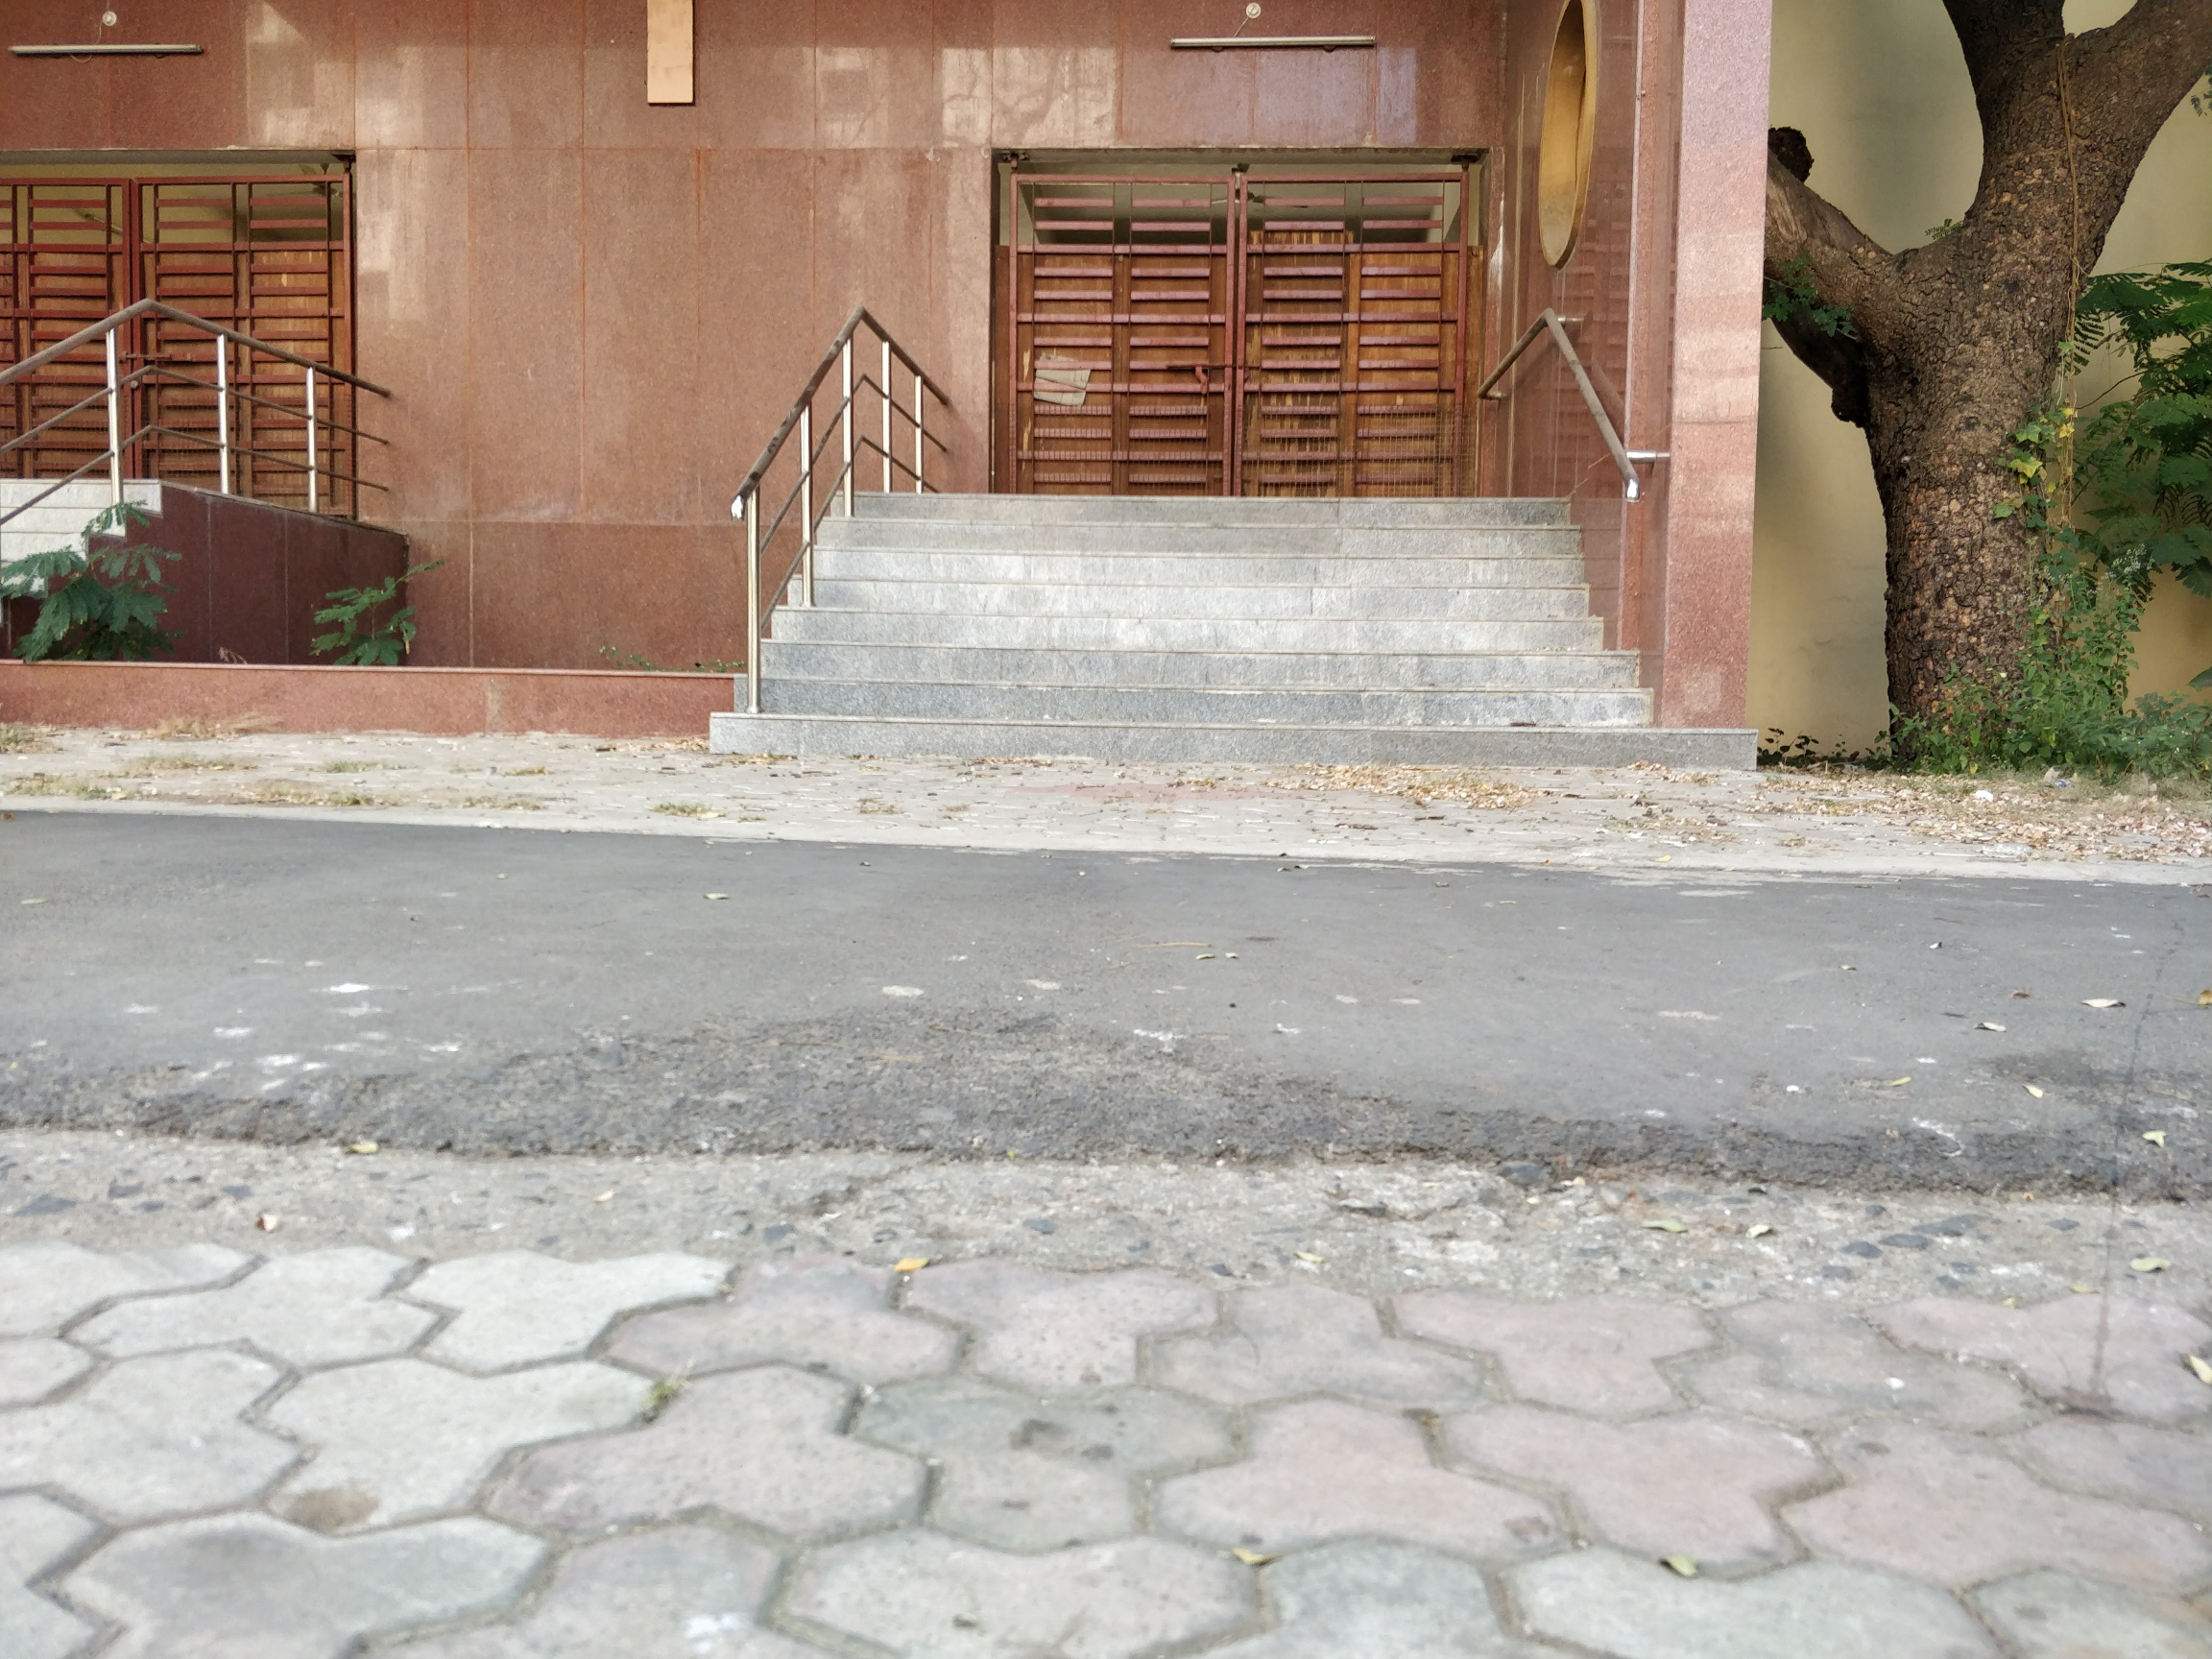stairs_up: (742, 479, 1670, 758)
